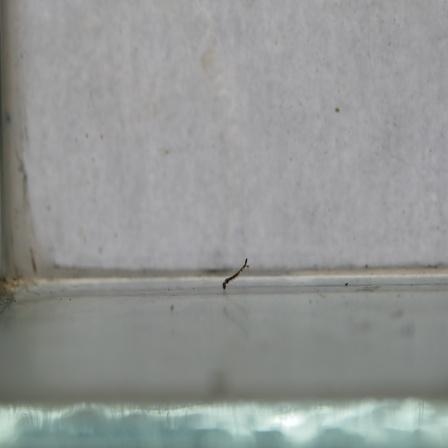Jentik-Nyamuk: (219, 256, 253, 292)
